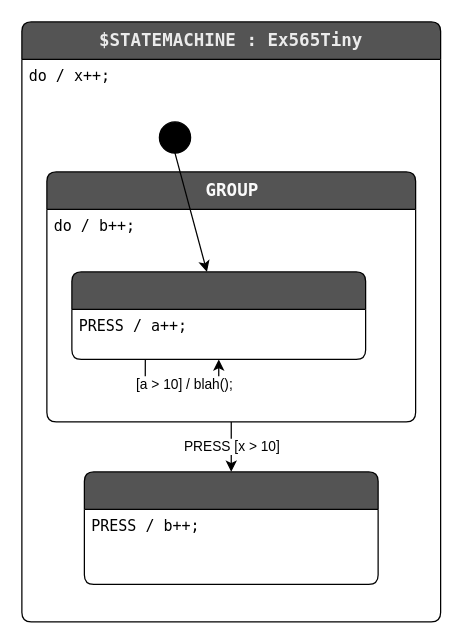
This 463x644 diagram has some shape labels left out. Each missing label, with the box of its shape:
S1: (71, 271, 366, 359)
S2: (83, 471, 378, 584)
